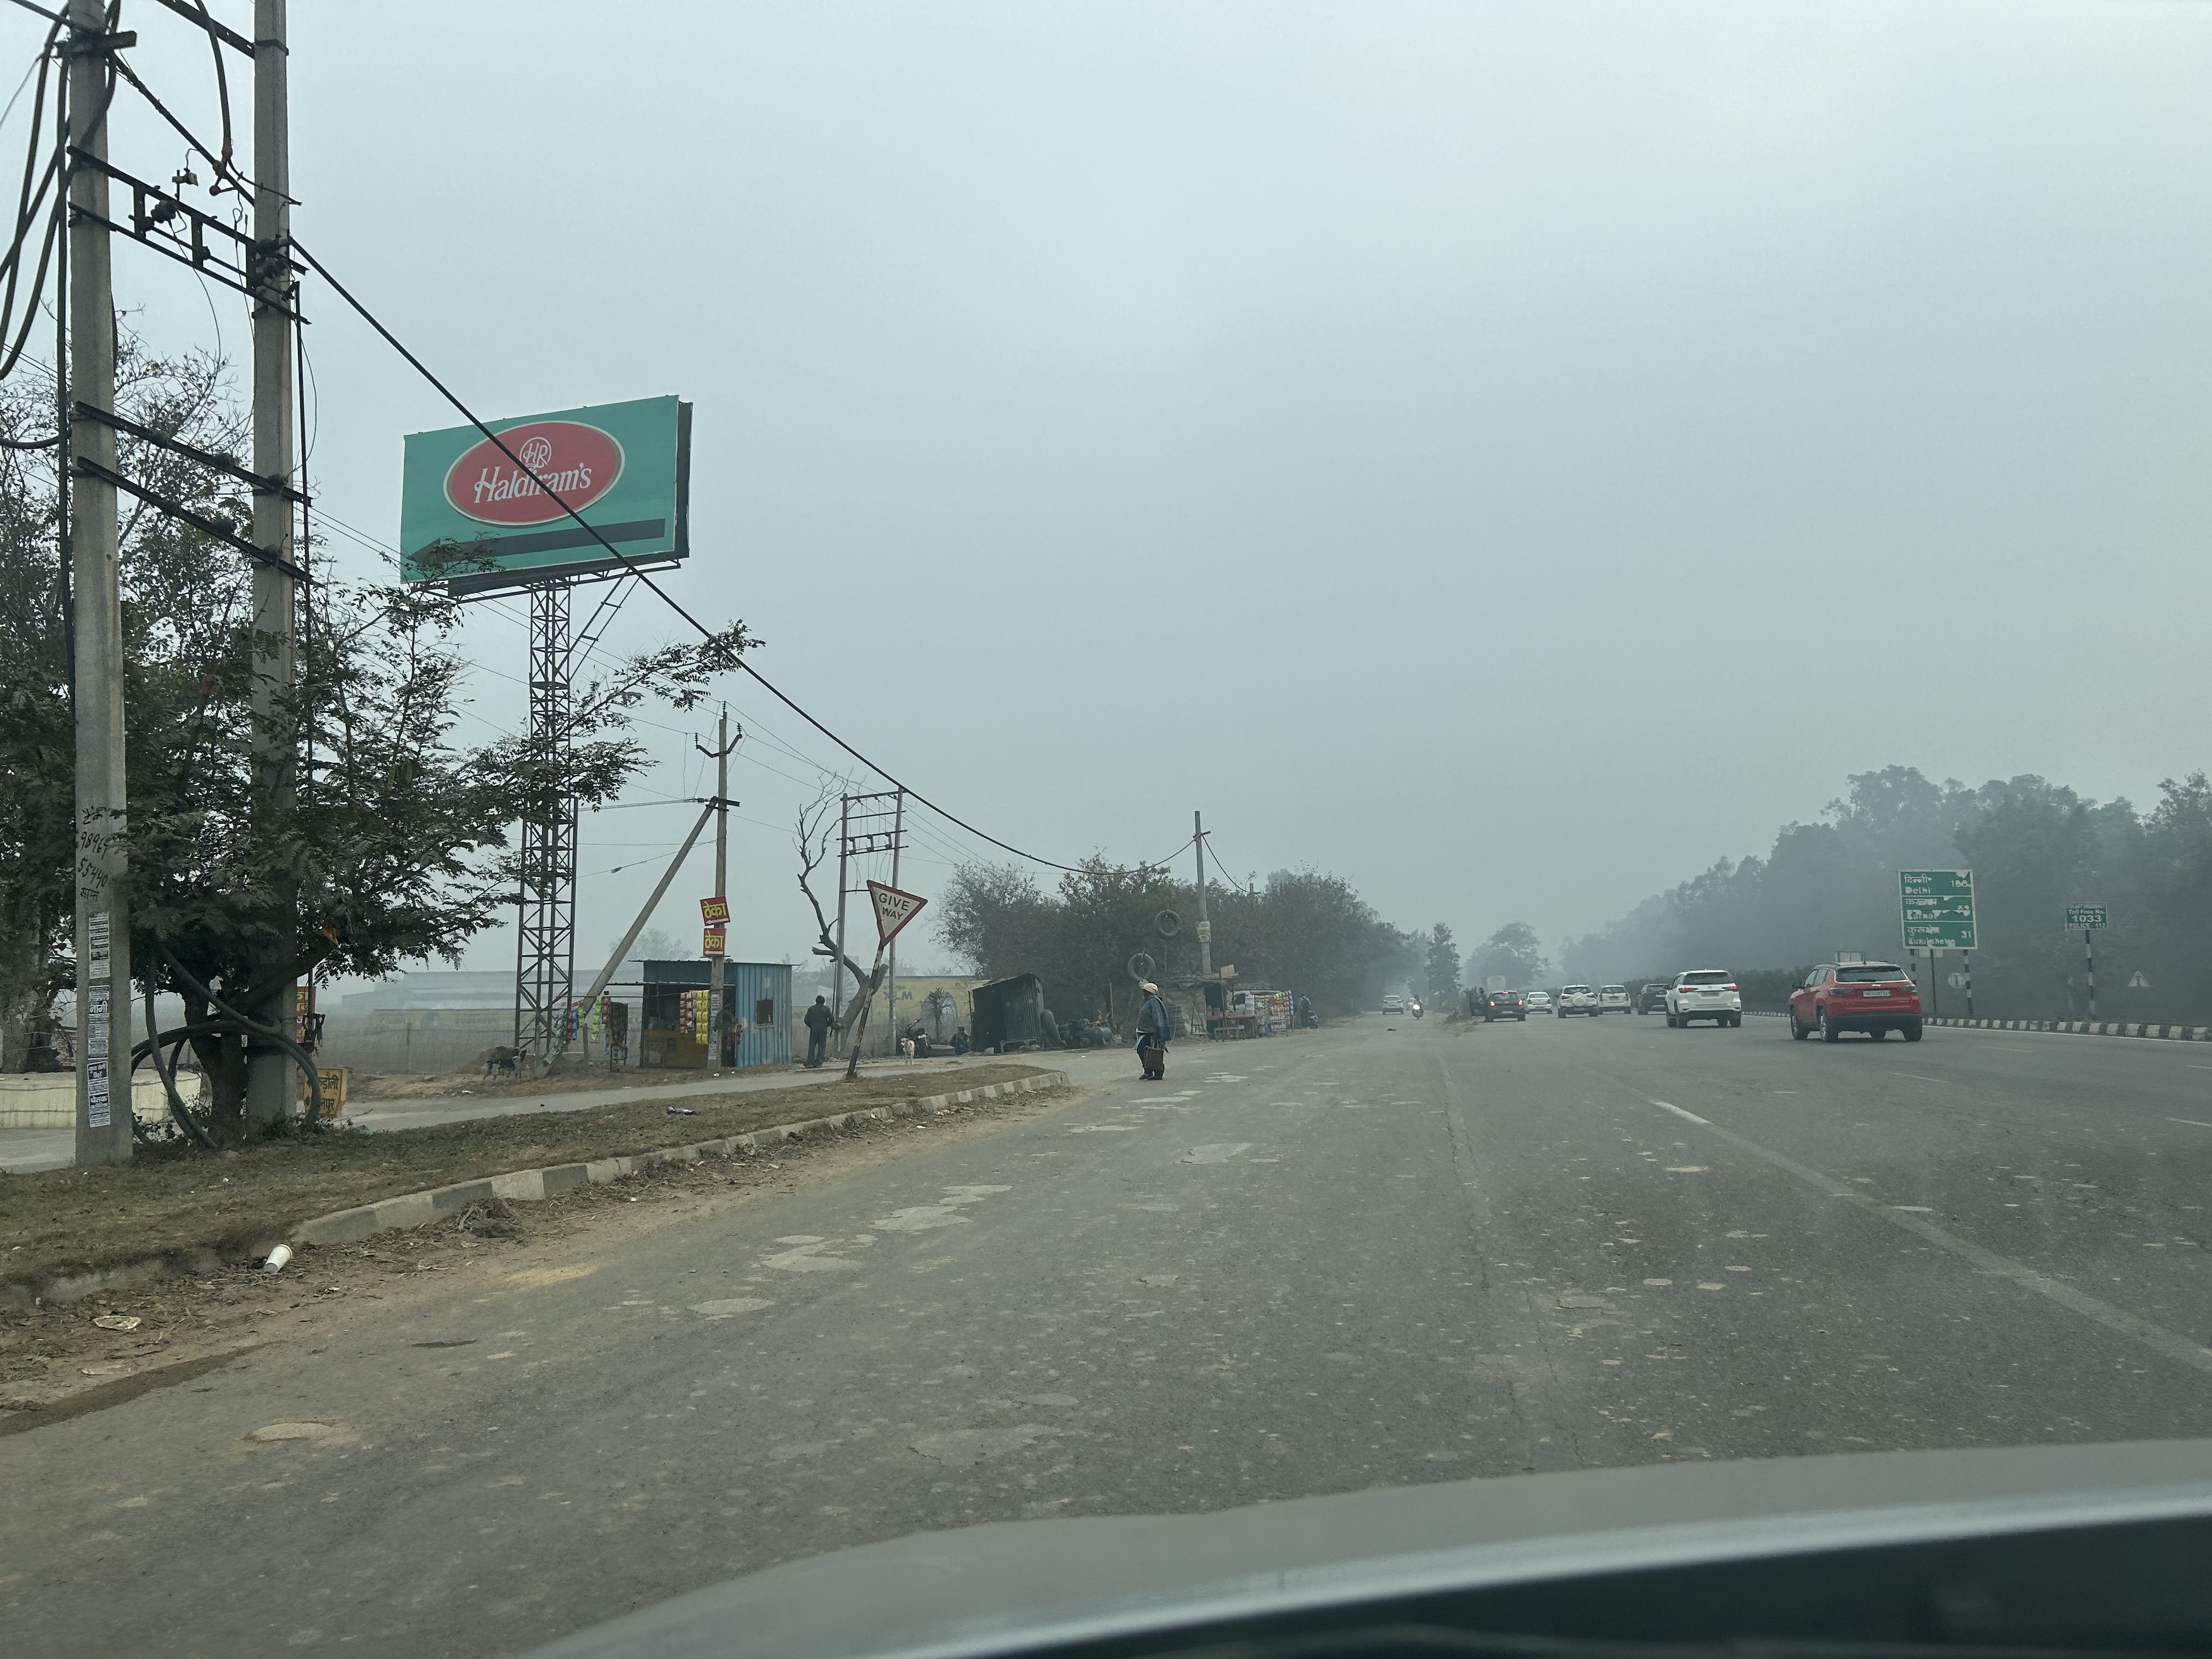Informatory: (1881, 863, 2003, 965)
Warning: (860, 863, 935, 953)
